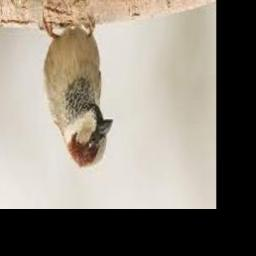Sparrow: (40, 11, 113, 168)
